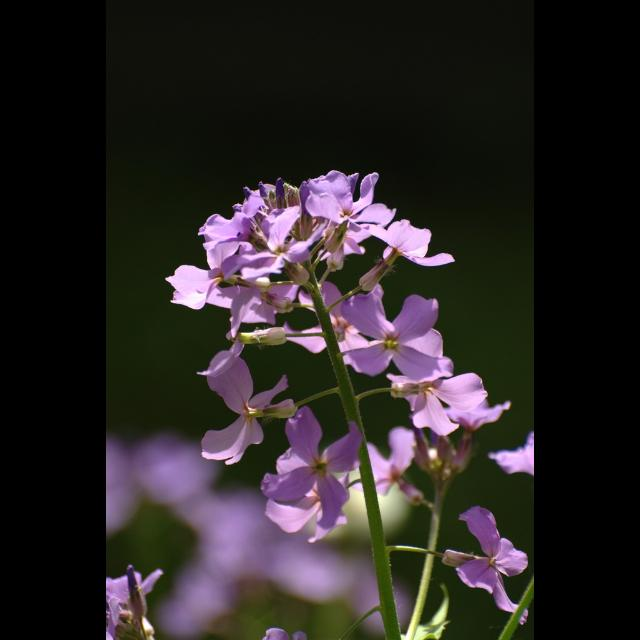Flower: (158, 167, 504, 547), (444, 508, 532, 624), (488, 429, 534, 479)
